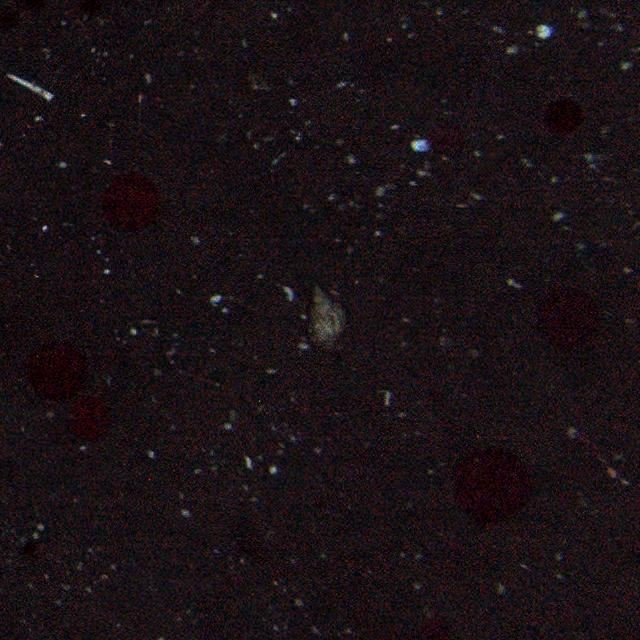whelk: (304, 283, 352, 355)
